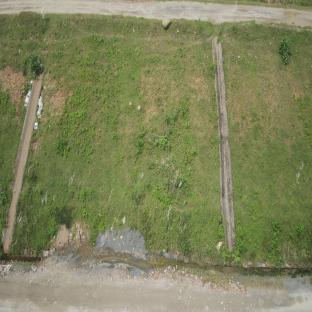slope_drain: (2, 79, 44, 253), (212, 35, 240, 251)
toe_drain: (0, 253, 312, 283)
